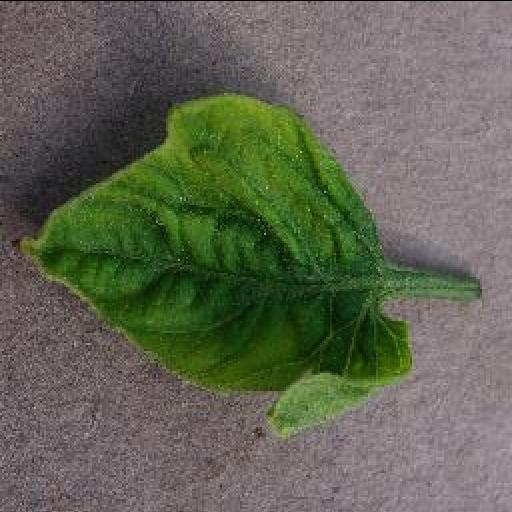disease_tomato: (12, 92, 412, 438)
